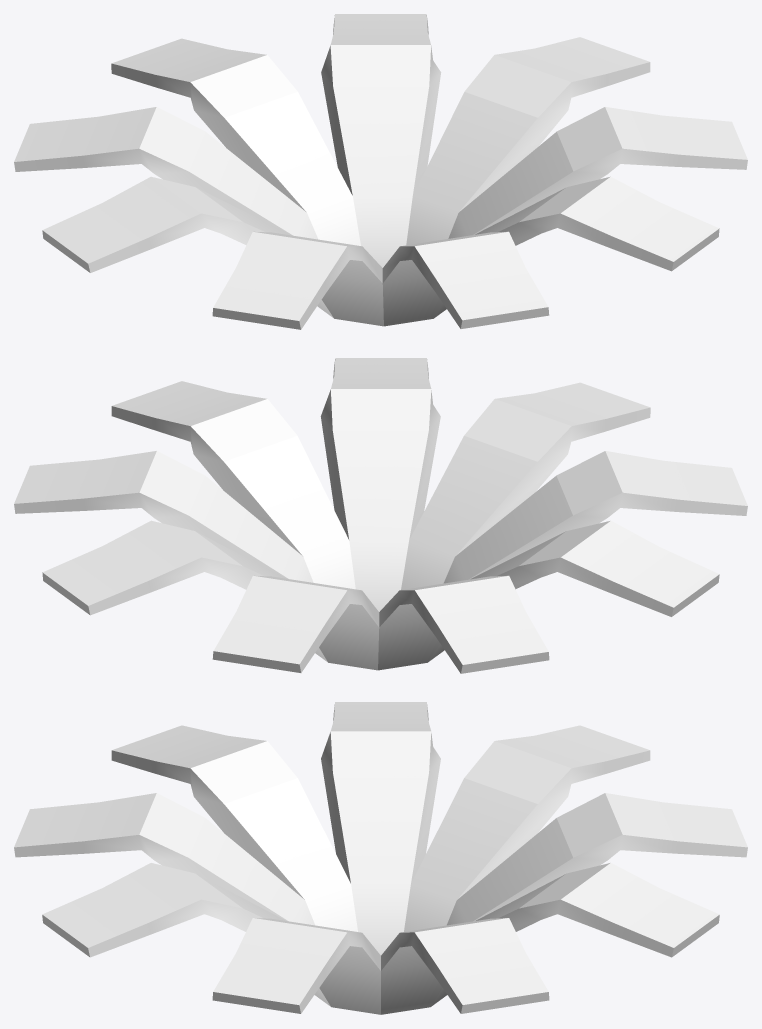
File: model_flower_petal_01.fbx
3 renders of one model, top to bottom at view 1: azimuth 30°, elevation 25°; view 2: azimuth 150°, elevation 25°; view 3: azimuth 270°, elevation 25°, orthographic.
Visible parts, largest first — view 1: pPipe21; view 2: pPipe21; view 3: pPipe21.
Part boxes in pixels (<box>): pPipe21: <box>14,14,747,329</box>; pPipe21: <box>14,358,747,673</box>; pPipe21: <box>14,702,747,1014</box>.
Size of the model in its own units: 7.9 by 1.8 by 8.02.
Materials: 1 (1 with a texture image).
